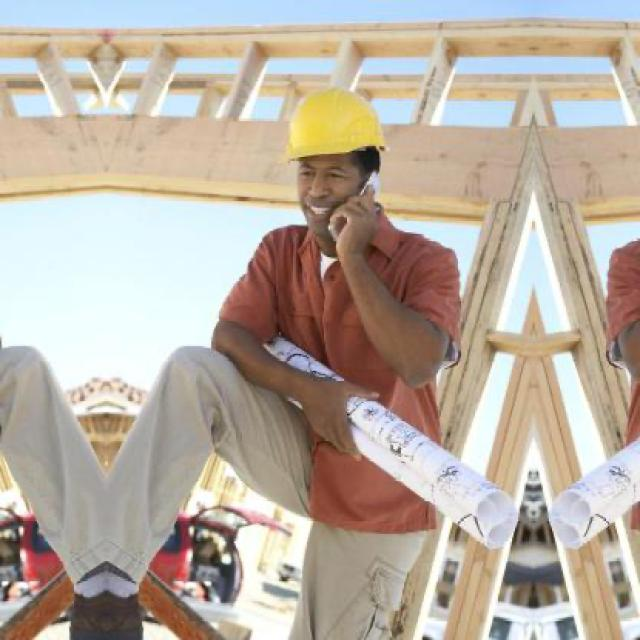con casco: (217, 81, 396, 260)
